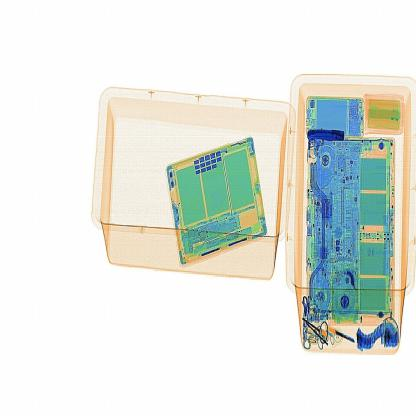knife: (308, 123, 350, 147)
